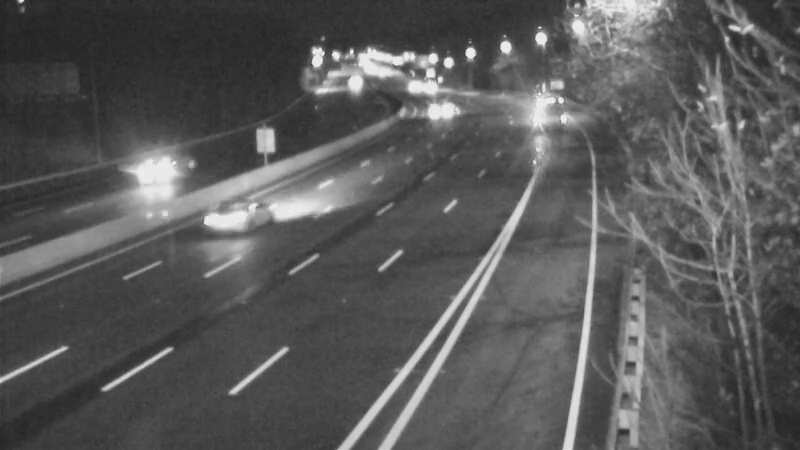vehicle: (184, 179, 264, 259), (117, 133, 197, 213), (387, 61, 437, 111), (406, 63, 456, 113), (524, 82, 574, 132), (413, 84, 463, 134)
